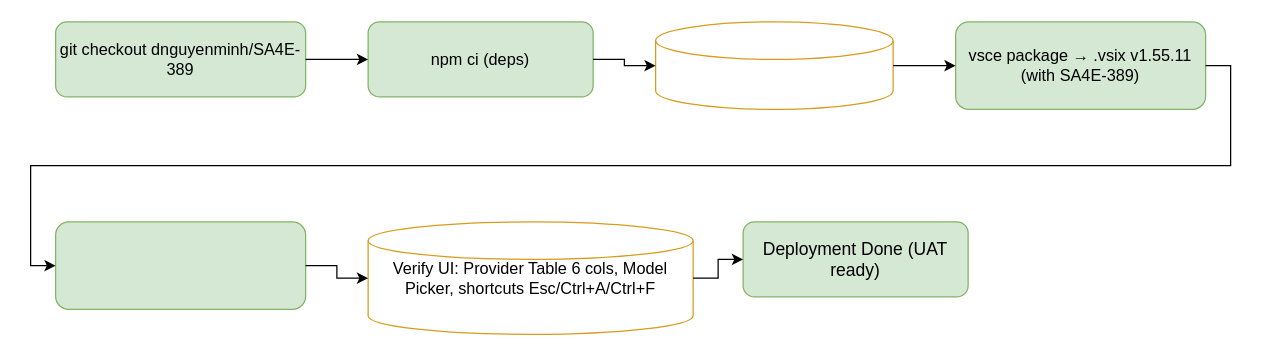
This 1263x356 diagram has some shape labels left out. The box of each missing label's shape, as (x1, y1, x2, y2) in pixels:
code --install-extension .vsix: (54, 221, 306, 309)
npm run compile (TSC): (654, 21, 893, 109)
